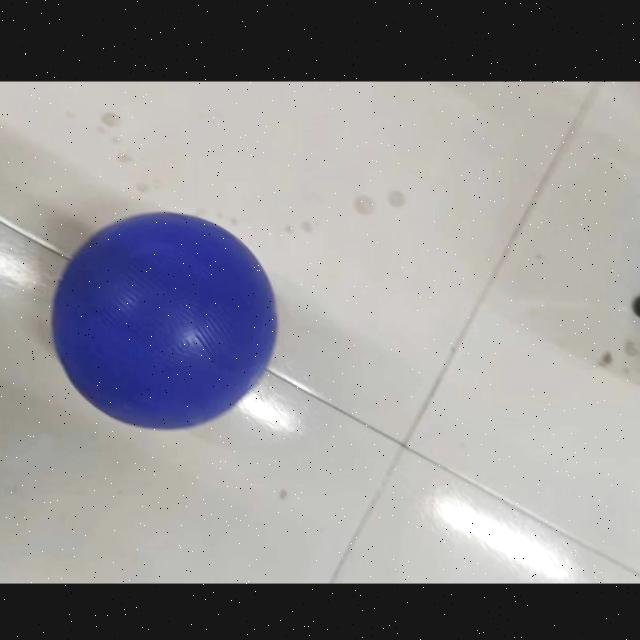B: (46, 210, 284, 438)
